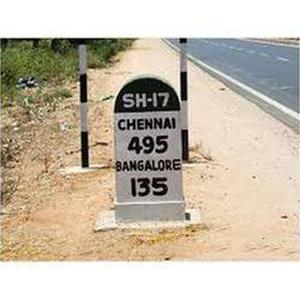kmstone: (111, 74, 183, 224)
